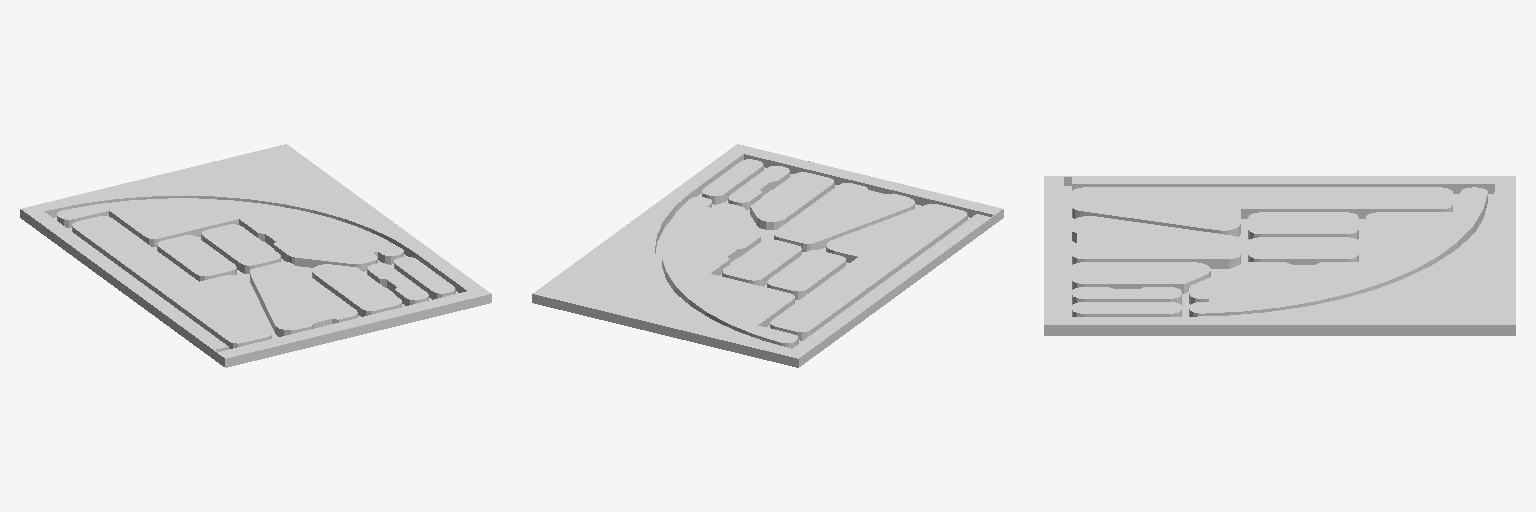
The robot description file, URDF, robot "mine":
<?xml version="1.0" encoding="utf-8"?>


<robot name="mine">

  <link name="world"/>

  <joint name="fixed_joint" type="fixed">
    <parent link="world"/>
    <child link="mine_link"/>
  </joint>

  <gazebo reference = " ine_link">
    <material>Gazebo/Grey2</material>
  </gazebo>

  <link name="mine_link">
    <inertial>
      <origin xyz="130.736197522301 184.265594661978 3.93267374208958" rpy="0 0 0" />
      <mass value="2379583143.16571" />
      <inertia ixx="31827475003598.4" ixy="-839540214066.285" ixz="-1668866655.16839" iyy="17989781021615.5" iyz="-5758552793.67403" izz="49776763433677.5" />
    </inertial>
    <visual>
      <origin xyz="0 0 0" rpy="0 0 0" />
      <geometry>
        <mesh filename="package://mine/meshes/base_link.STL" />
      </geometry>
      <material name="Grey2">
        <color rgba="0.9 0.9 0.9 1.0"/>
      </material>
    </visual>
    <collision>
      <origin xyz="0 0 0" rpy="0 0 0" />
      <geometry>
        <mesh filename="package://mine/meshes/base_link.STL" />
      </geometry>
    </collision>
  </link>

</robot>

--- Facts derived from the render (not from the file) ---
3 views of the same robot in one strip: view 1: azimuth 30°, elevation 25°; view 2: azimuth 150°, elevation 25°; view 3: azimuth 270°, elevation 25° (orthographic).
Robot: mine — 2 links, 1 joints (1 fixed); root link world; default pose: all joints at 0.
Visible links, largest first — view 1: mine_link; view 2: mine_link; view 3: mine_link.
Link boxes in pixels (<box>): mine_link: <box>20,144,491,367</box>; mine_link: <box>532,144,1003,367</box>; mine_link: <box>1044,176,1515,335</box>.
Bounding box of the posed robot: 300 × 400 × 10 m (x, y, z).
1 mesh visuals loaded from 1 distinct referenced files (1 binary STL).